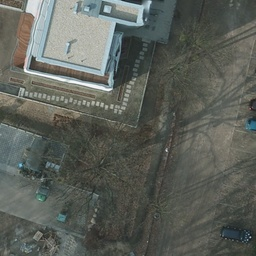car: (218, 226, 251, 245), (33, 178, 51, 203)
